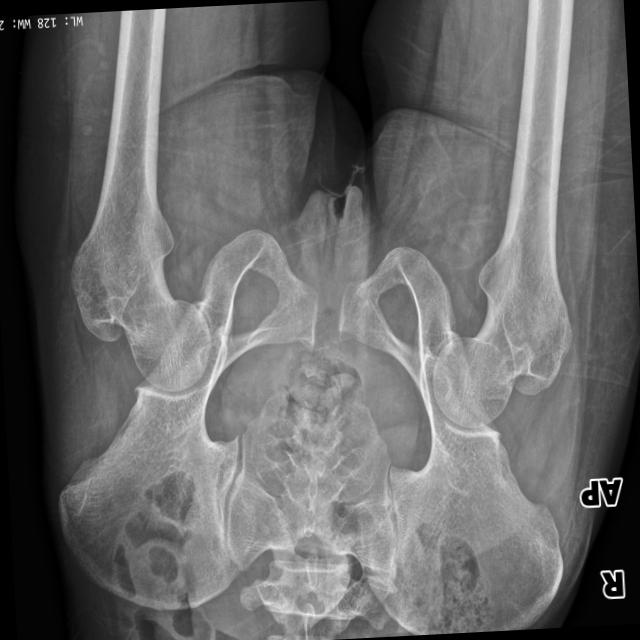normal-left: (70, 77, 210, 391)
normal-right: (432, 97, 571, 428)
